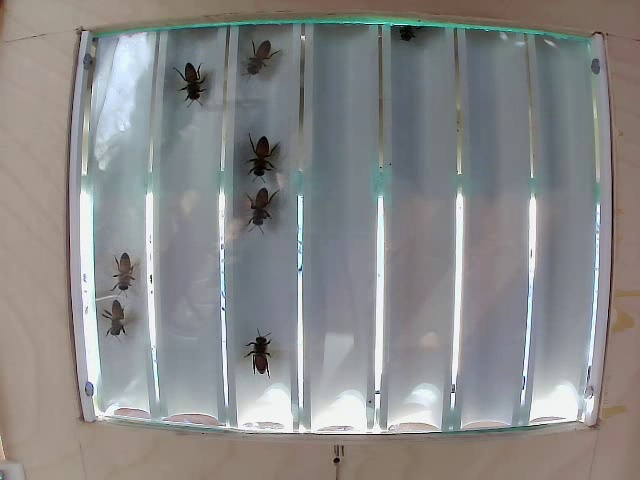bee: (162, 63, 220, 109), (232, 129, 285, 177), (232, 30, 280, 74), (241, 180, 279, 234), (238, 330, 278, 367), (90, 298, 129, 333), (110, 252, 144, 287)
